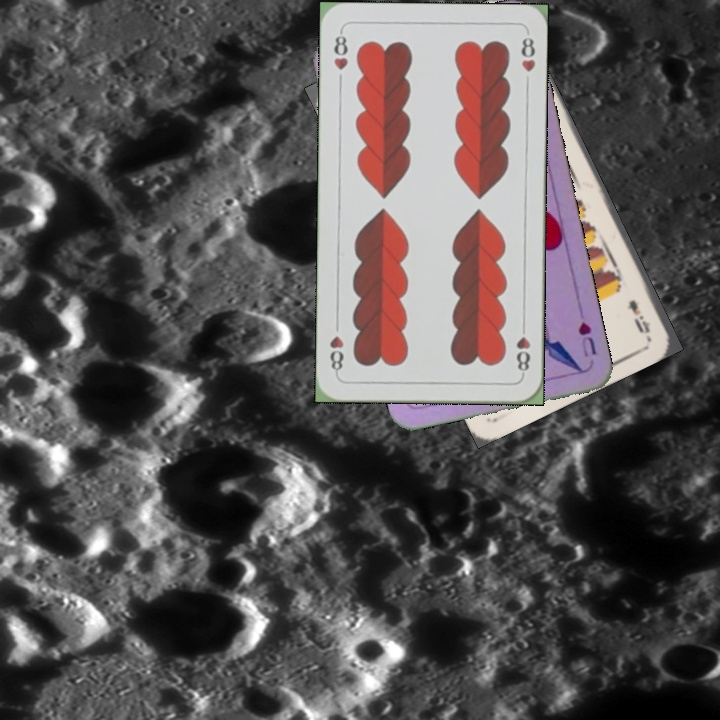E9: (624, 295, 653, 336)
H8: (512, 319, 533, 378), (330, 27, 351, 73)
HU: (574, 318, 599, 360)
